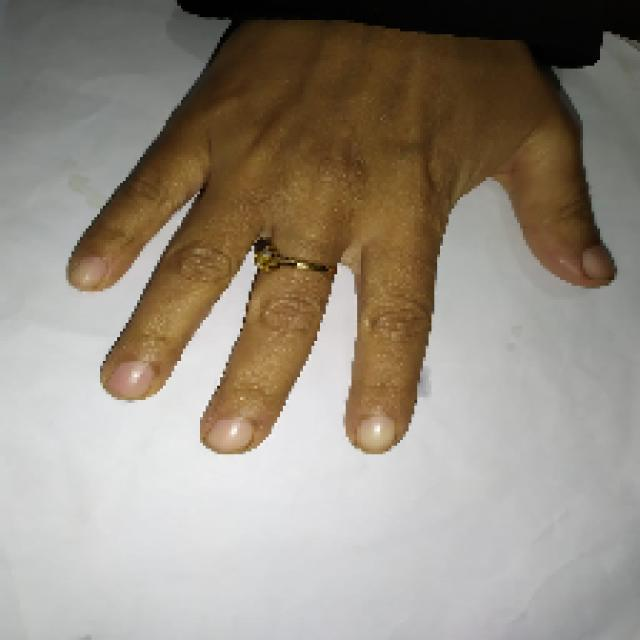Nail: (106, 360, 155, 399), (205, 419, 254, 453), (355, 415, 396, 452), (69, 255, 108, 290), (581, 244, 615, 283)
